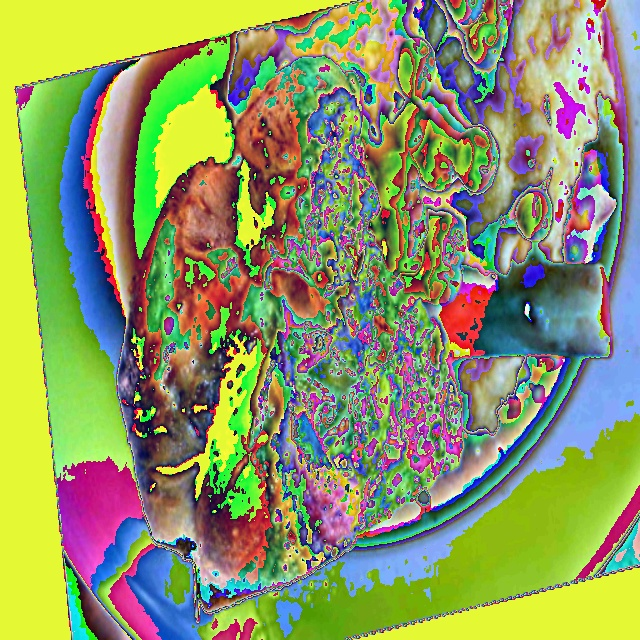background: (115, 0, 619, 627)
